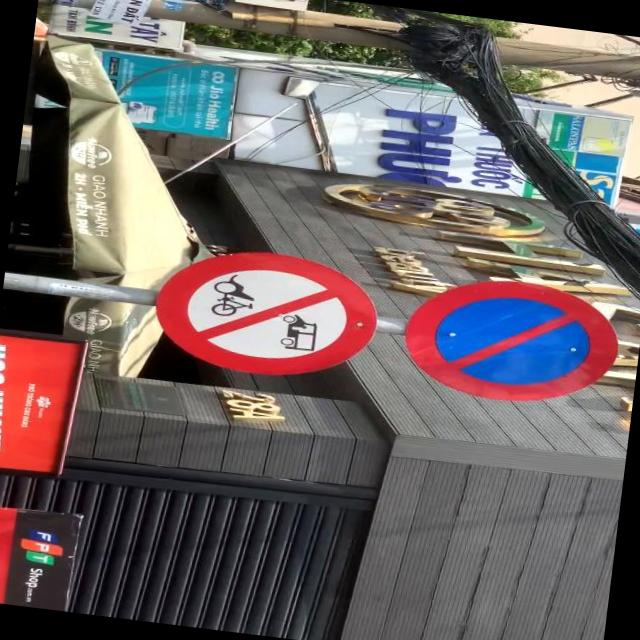P-131a: (402, 268, 624, 412)
